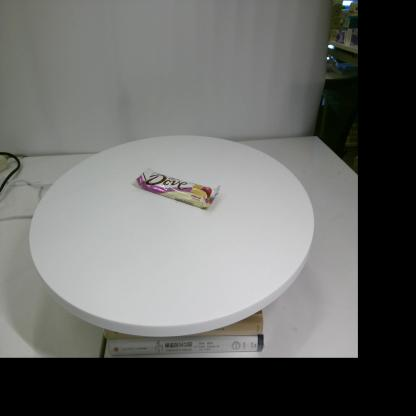Chocolate: (136, 168, 220, 209)
